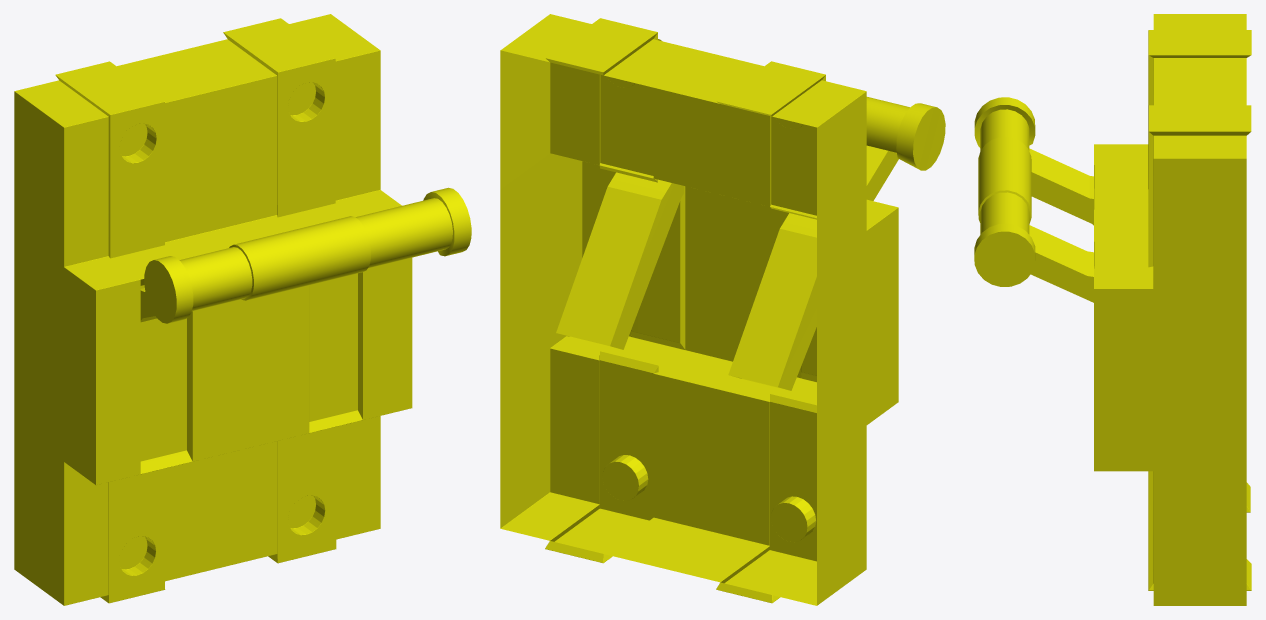
The model's file is Circuit.fbx.
The picture shows the model from 3 angles, left to right: view 1: azimuth 30°, elevation 25°; view 2: azimuth 150°, elevation 25°; view 3: azimuth 270°, elevation 25°; orthographic projection. The views are drawn at different scales.
Parts seen in each view (by area): view 1: CircuitBreaker, CircuitHandle; view 2: CircuitBreaker, CircuitHandle; view 3: CircuitBreaker, CircuitHandle.
Part boxes in pixels (x1,y1,x2,y2): CircuitBreaker: [14, 14, 412, 605]; CircuitHandle: [140, 187, 471, 323]; CircuitBreaker: [500, 14, 898, 605]; CircuitHandle: [556, 39, 945, 390]; CircuitBreaker: [1094, 14, 1251, 605]; CircuitHandle: [974, 97, 1093, 302].
Bounding box in the file's own units: 41.46 × 61.41 × 33.64.
